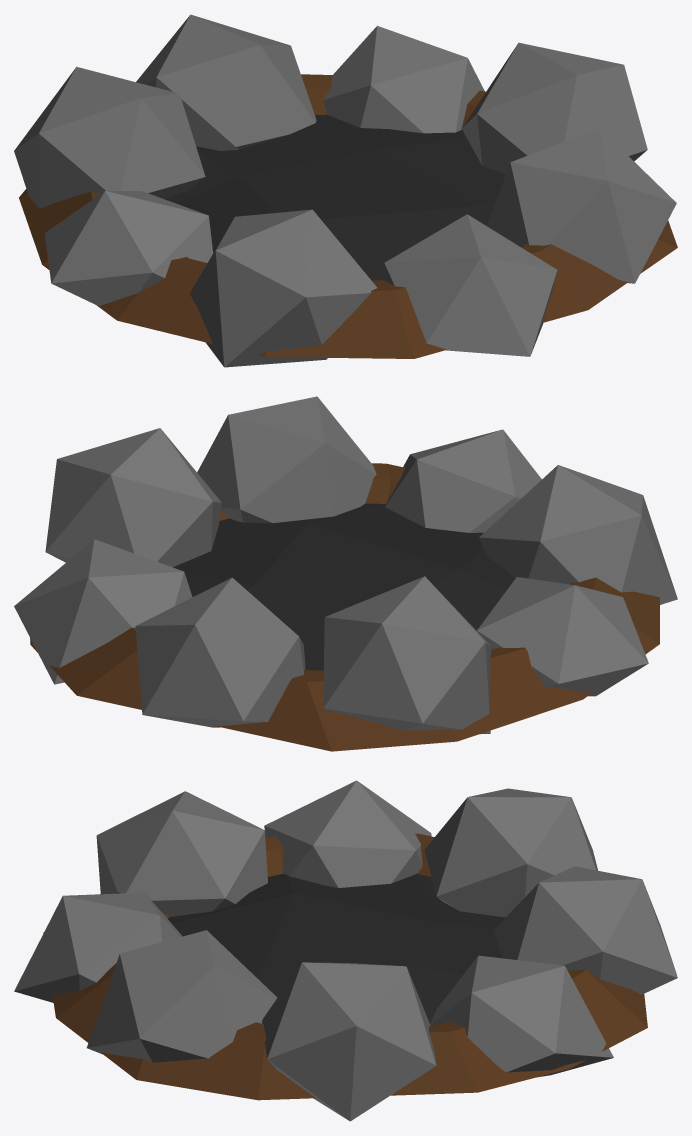
File: Campfire.fbx
The picture shows the model from 3 angles, top to bottom: view 1: azimuth 30°, elevation 25°; view 2: azimuth 150°, elevation 25°; view 3: azimuth 270°, elevation 25°; orthographic projection. The views are drawn at different scales.
Parts seen in each view (by area): view 1: Capmfire; view 2: Capmfire; view 3: Capmfire.
Part boxes in pixels (<box>): Capmfire: <box>14,14,677,367</box>; Capmfire: <box>14,396,677,751</box>; Capmfire: <box>14,780,677,1121</box>.
Size of the model in its own units: 87.73 by 17.93 by 88.57.
